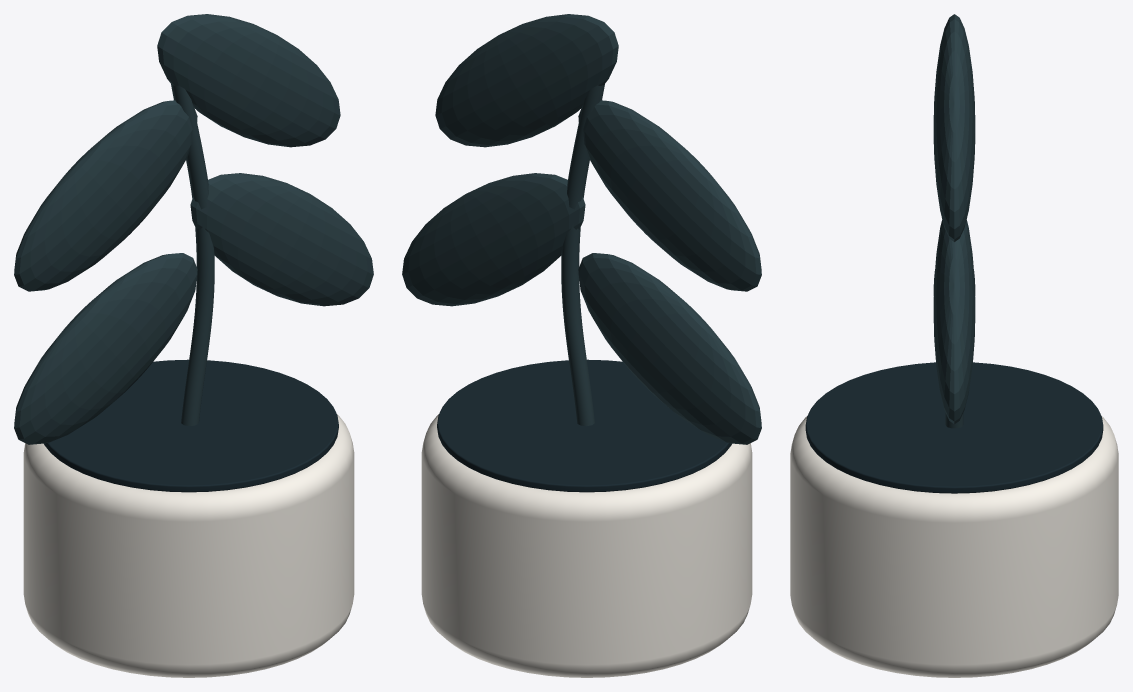
File: entry-plant.glb
3 views of the same model, side by side, from view 1: azimuth 30°, elevation 25°; view 2: azimuth 150°, elevation 25°; view 3: azimuth 270°, elevation 25° (orthographic).
Parts seen in each view (by area): view 1: Ceramic planter, Soil, Satin leaf, Satin leaf.002, Satin leaf.003, Satin leaf.001, Plant stem; view 2: Ceramic planter, Soil, Satin leaf, Satin leaf.002, Satin leaf.003, Satin leaf.001, Plant stem; view 3: Ceramic planter, Soil, Satin leaf.003, Satin leaf.001.
Boxes of the visible parts, bbox=[...] form: Ceramic planter: bbox=[23, 414, 354, 677]; Soil: bbox=[44, 359, 338, 492]; Satin leaf: bbox=[14, 253, 197, 444]; Satin leaf.002: bbox=[14, 100, 197, 291]; Satin leaf.003: bbox=[157, 14, 340, 147]; Satin leaf.001: bbox=[190, 173, 373, 306]; Plant stem: bbox=[171, 84, 214, 426]; Ceramic planter: bbox=[421, 414, 752, 677]; Soil: bbox=[437, 359, 731, 492]; Satin leaf: bbox=[578, 253, 761, 444]; Satin leaf.002: bbox=[578, 100, 761, 291]; Satin leaf.003: bbox=[435, 14, 618, 147]; Satin leaf.001: bbox=[402, 173, 585, 306]; Plant stem: bbox=[561, 84, 604, 426]; Ceramic planter: bbox=[790, 416, 1118, 677]; Soil: bbox=[805, 362, 1103, 493]; Satin leaf.003: bbox=[933, 14, 975, 241]; Satin leaf.001: bbox=[933, 220, 975, 424].
Bounding box in the file's own units: 2.21 × 3.52 × 1.76.
